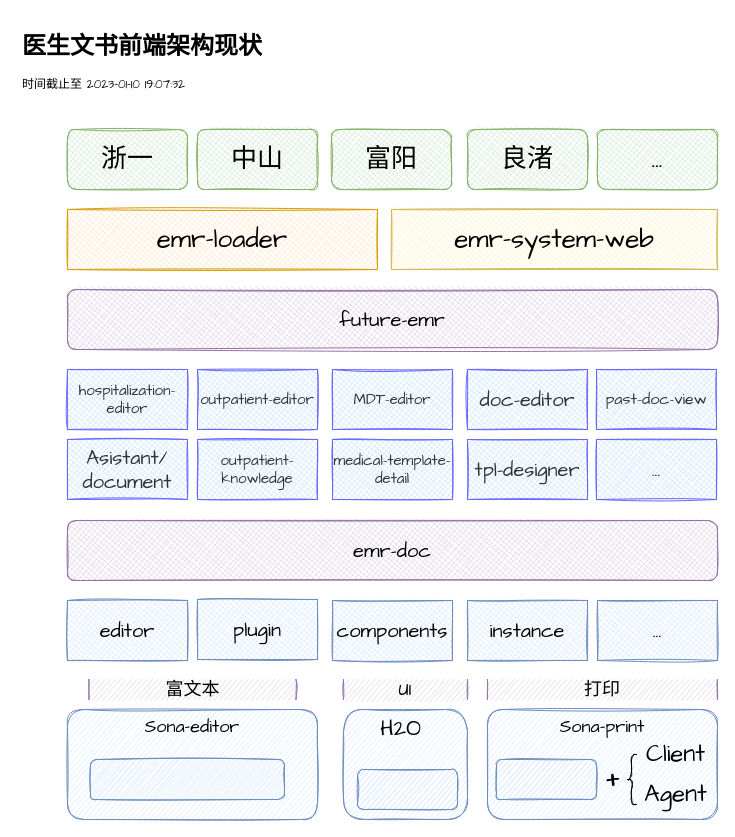
Some shapes in this 735 by 837 pixel diagram are drawn without their labels. The centre of each missing label's shape, as x and y in pixels:
"Ant-design" belongs at point 407,789.
"cfprinter" belongs at point 546,779.
"Sona (Slate v0.76.1)" belongs at point 187,779.
